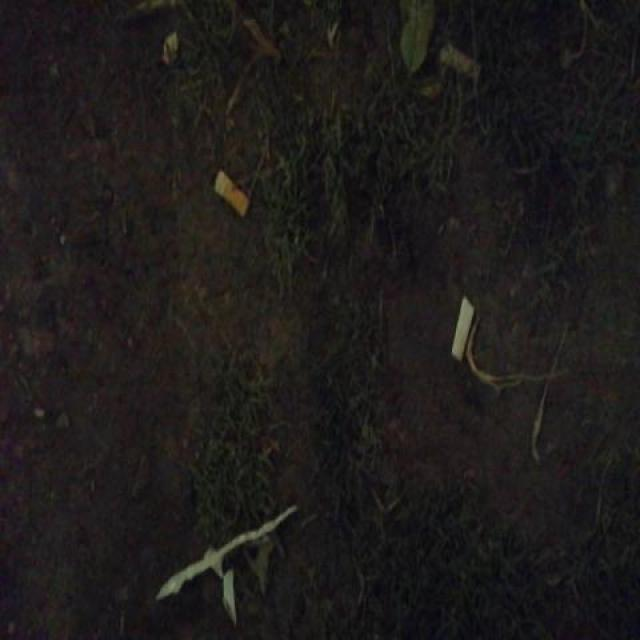non-organic waste: (212, 167, 253, 224), (448, 294, 476, 366)
